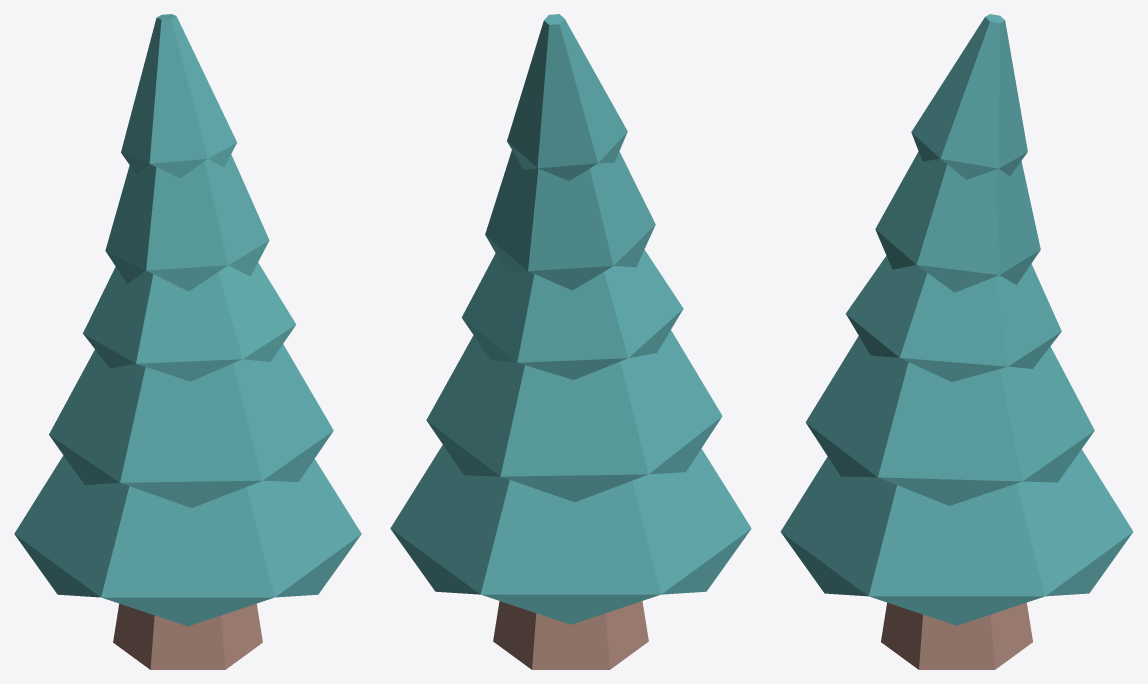
Rendered from tree_pineRoundD.glb.
3 views of the same model, side by side, from view 1: azimuth 30°, elevation 25°; view 2: azimuth 150°, elevation 25°; view 3: azimuth 270°, elevation 25° (orthographic). The views are drawn at different scales.
Parts seen in each view (by area): view 1: tree_pineRoundD; view 2: tree_pineRoundD; view 3: tree_pineRoundD.
Boxes of the visible parts, bbox=[...] form: tree_pineRoundD: bbox=[14, 14, 361, 669]; tree_pineRoundD: bbox=[390, 14, 751, 669]; tree_pineRoundD: bbox=[780, 14, 1133, 669].
Bounding box in the file's own units: 0.4804 × 1.08 × 0.5547.
